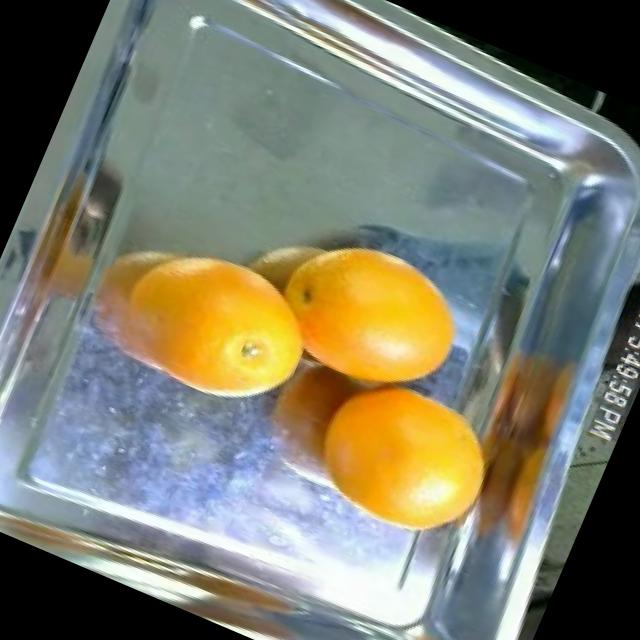Fruit: (248, 200, 498, 422)
